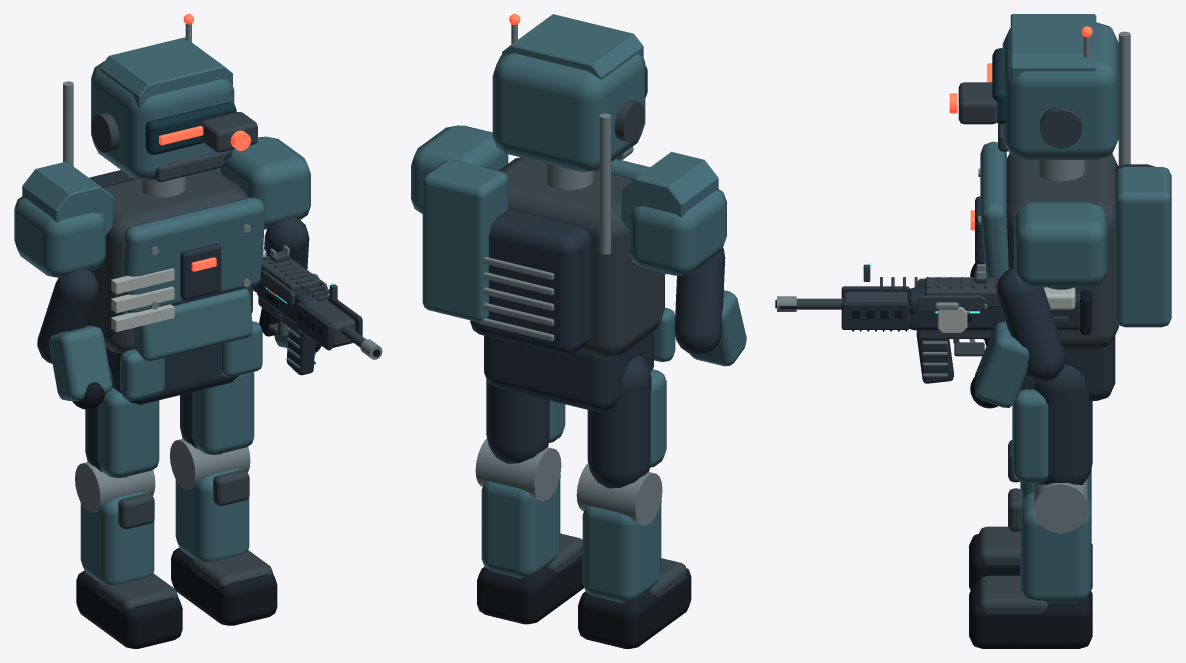
File: sniper-sentinel.glb
3 renders of one model, left to right at view 1: azimuth 30°, elevation 25°; view 2: azimuth 150°, elevation 25°; view 3: azimuth 270°, elevation 25°, orthographic. The views are drawn at different scales.
Parts seen in each view (by area): view 1: torso / Port teal paint, head / Port teal paint, leg_L / Port teal paint, leg_R / Port teal paint, arm_L / Port teal paint, torso / Gunmetal, arm_R / Port teal paint, leg_R / Grip rubber, leg_L / Grip rubber, sniper Sentinel / Port teal paint, head / Gunmetal, hips / Port teal paint (+20 smaller); view 2: head / Port teal paint, torso / Gunmetal, torso / Port teal paint, torso / Graphite polymer, leg_L / Port teal paint, arm_L / Port teal paint, hips / Graphite polymer, leg_R / Port teal paint, leg_L / Graphite polymer, torso / Brushed titanium, leg_L / Grip rubber, leg_R / Grip rubber (+10 smaller); view 3: head / Port teal paint, torso / Port teal paint, arm_R / Port teal paint, leg_R / Port teal paint, torso / Gunmetal, leg_R / Grip rubber, leg_R / Graphite polymer, receiver / Gunmetal, arm_R / Graphite polymer, head / Gunmetal, torso / Brushed titanium, leg_R / Gunmetal (+12 smaller).
Part boxes in pixels (x1,y1,x2,y2): torso / Port teal paint: [121, 168, 264, 361]; head / Port teal paint: [91, 37, 234, 180]; leg_L / Port teal paint: [80, 388, 159, 585]; leg_R / Port teal paint: [175, 372, 254, 561]; arm_L / Port teal paint: [14, 196, 111, 401]; torso / Gunmetal: [88, 169, 252, 353]; arm_R / Port teal paint: [219, 136, 319, 347]; leg_R / Grip rubber: [171, 547, 277, 625]; leg_L / Grip rubber: [76, 570, 182, 648]; sniper Sentinel / Port teal paint: [22, 161, 113, 235]; head / Gunmetal: [91, 112, 257, 182]; hips / Port teal paint: [120, 321, 262, 400]; head / Port teal paint: [492, 14, 645, 171]; torso / Gunmetal: [499, 157, 664, 357]; torso / Port teal paint: [422, 159, 649, 321]; torso / Graphite polymer: [470, 209, 591, 354]; leg_L / Port teal paint: [582, 369, 666, 602]; arm_L / Port teal paint: [629, 189, 746, 366]; hips / Graphite polymer: [484, 332, 653, 411]; leg_R / Port teal paint: [481, 400, 565, 578]; leg_L / Graphite polymer: [587, 355, 651, 488]; torso / Brushed titanium: [478, 113, 611, 341]; leg_L / Grip rubber: [578, 568, 691, 648]; leg_R / Grip rubber: [477, 555, 584, 624]; head / Port teal paint: [1002, 14, 1118, 159]; torso / Port teal paint: [980, 141, 1171, 339]; arm_R / Port teal paint: [975, 202, 1107, 407]; leg_R / Port teal paint: [1012, 389, 1091, 603]; torso / Gunmetal: [1007, 153, 1118, 349]; leg_R / Grip rubber: [969, 583, 1092, 648]; leg_R / Graphite polymer: [1034, 364, 1092, 484]; receiver / Gunmetal: [796, 264, 1068, 356]; arm_R / Graphite polymer: [996, 267, 1065, 381]; head / Gunmetal: [958, 82, 1081, 151]; torso / Brushed titanium: [978, 31, 1130, 224]; leg_R / Gunmetal: [978, 488, 1048, 613].
Size of the model in its own units: 0.87 by 1.79 by 1.06.
